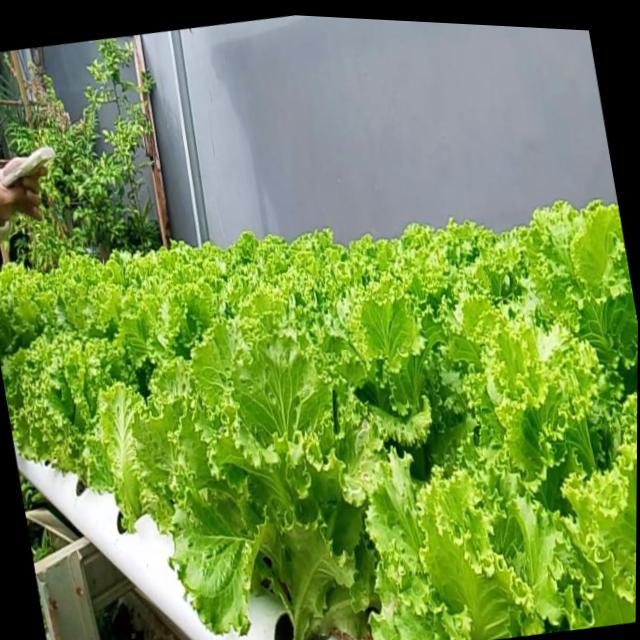Mature: (0, 198, 638, 640), (196, 344, 395, 640), (9, 299, 164, 509)
